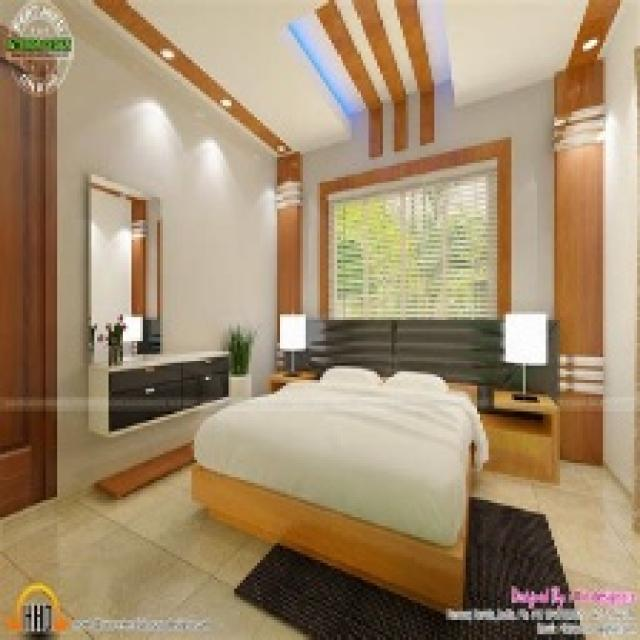Bed: (188, 372, 488, 614)
